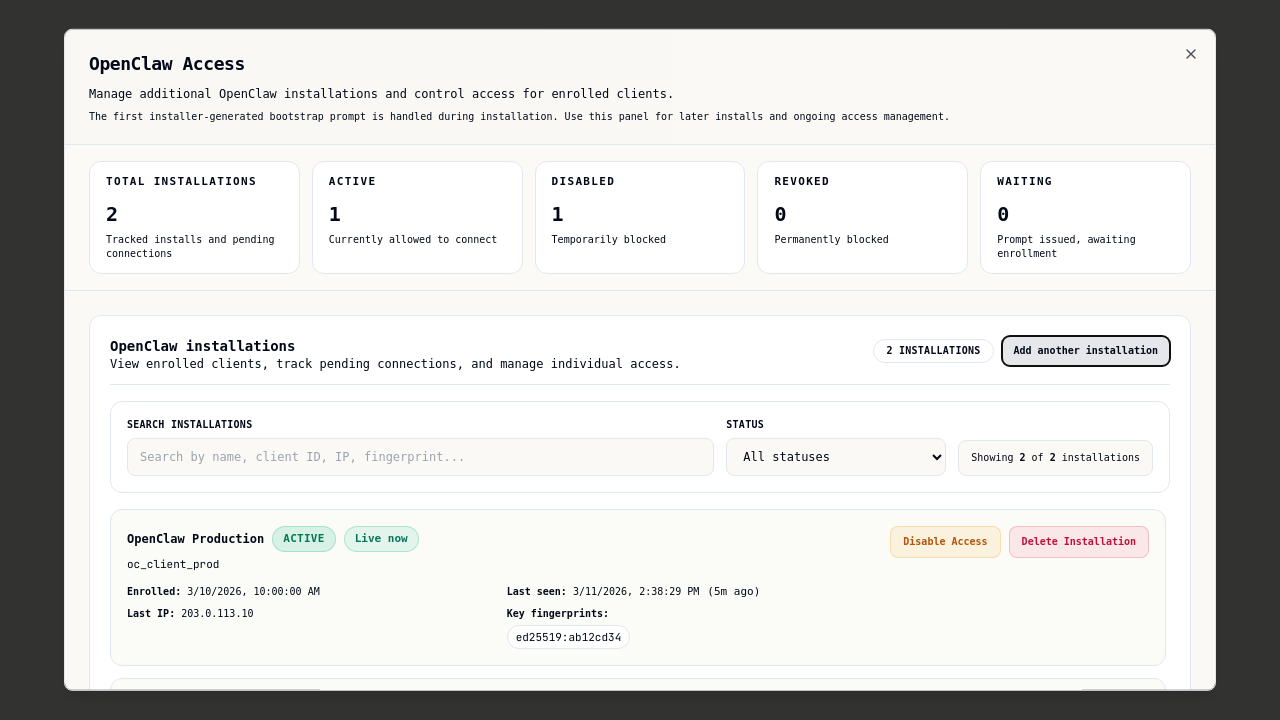
OpenClawAccessModal › keeps the add installation panel collapsed until the user opens it
The image size is (1280, 720).
Expected: the text "Describe the new installation" is not shown
Click the button "Add another installation". click: click(1086, 350)
box: top-left (1002, 335), bottom-right (1170, 365)
(page scrolled)
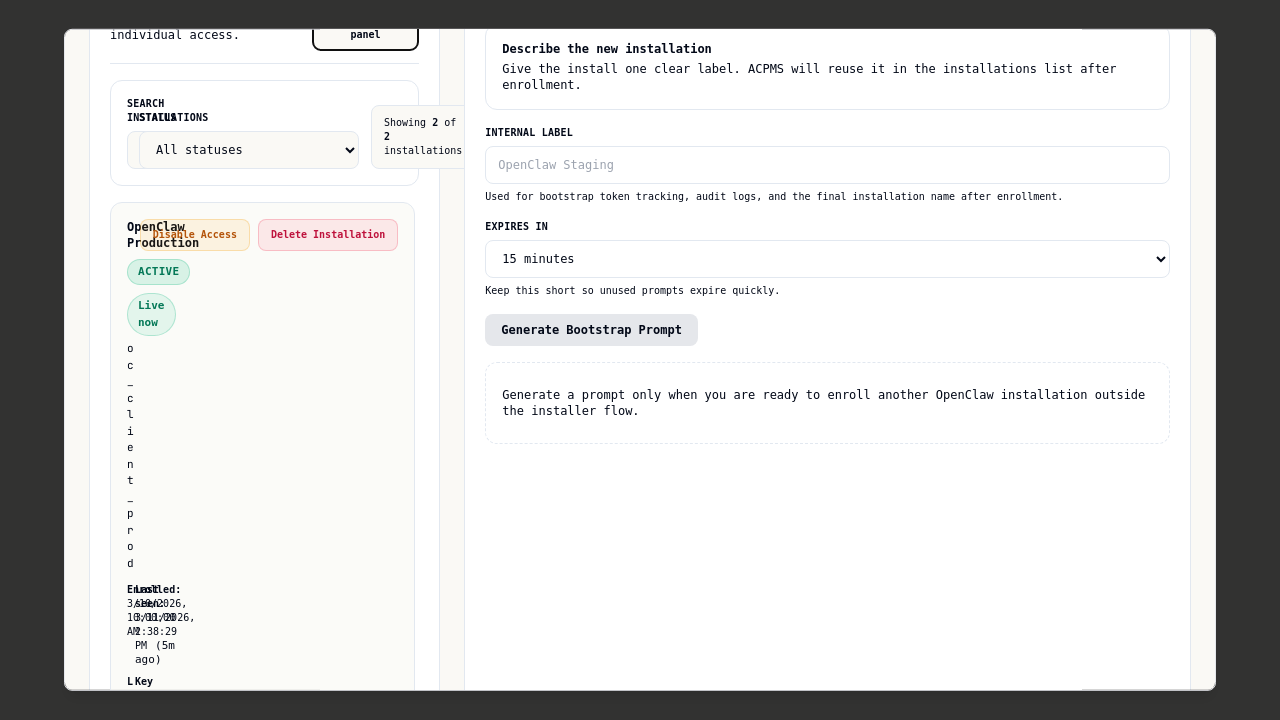
Result: the heading "Describe the new installation" is shown at top-left (502, 41), bottom-right (712, 55)
